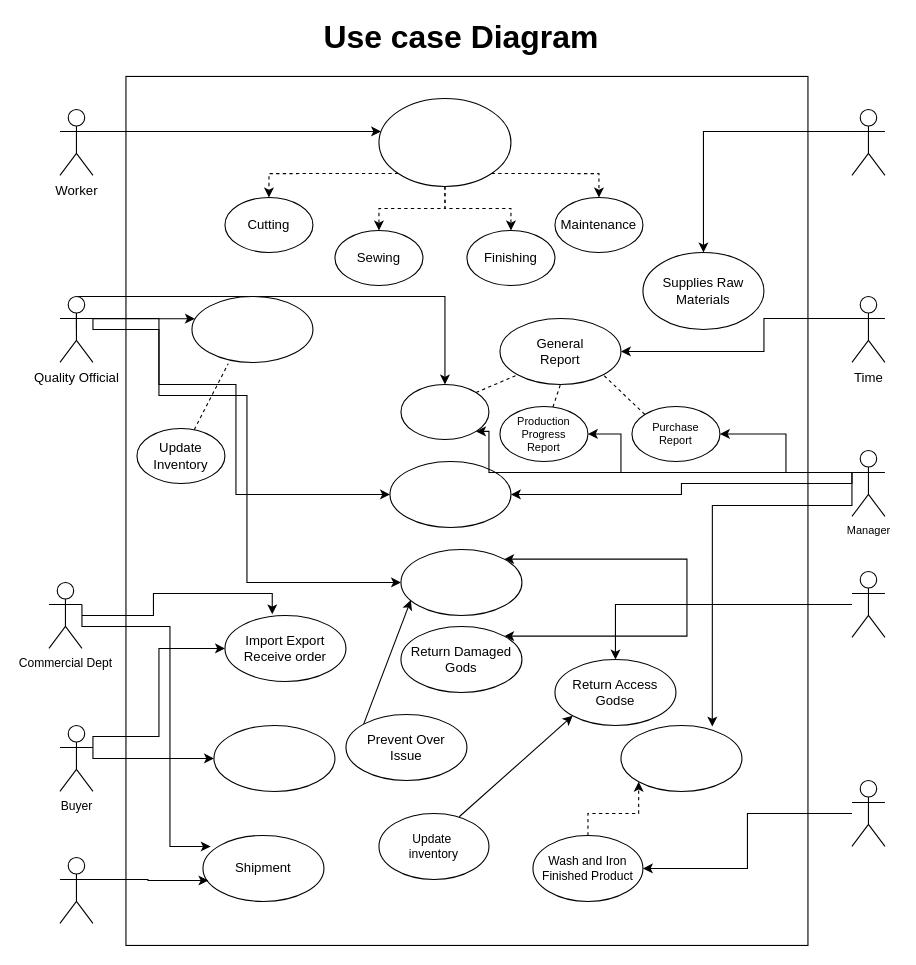
Some shapes in this 916 by 965 pixel diagram are drawn without their labels. The shapes that lost their labels are listed below. From the top down, each one's box as (x1, y1, x2, y2) in pixels, then its label:
(378, 97, 511, 186): Making Garments
(851, 108, 885, 175): Supplier
(191, 295, 313, 362): Acquire Raw Materials
(400, 383, 489, 439): Inventory Report
(389, 460, 511, 527): Purchase Order
(400, 548, 522, 615): Requestion of Raw Matarials
(851, 570, 885, 637): Supervisor
(213, 724, 335, 791): Place Order
(620, 724, 742, 791): Accumulate Finished Product
(851, 779, 885, 846): Washing
(59, 856, 93, 923): Shipping Agent
